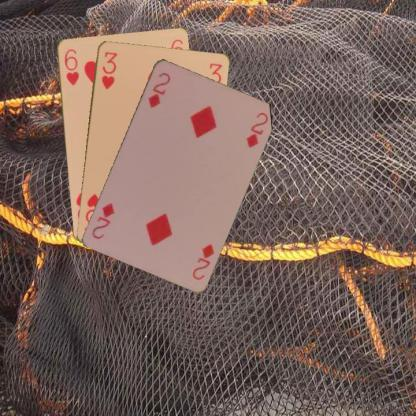2d: (144, 70, 172, 110), (189, 240, 215, 281)
3h: (99, 49, 119, 90)
6h: (62, 46, 80, 86)
